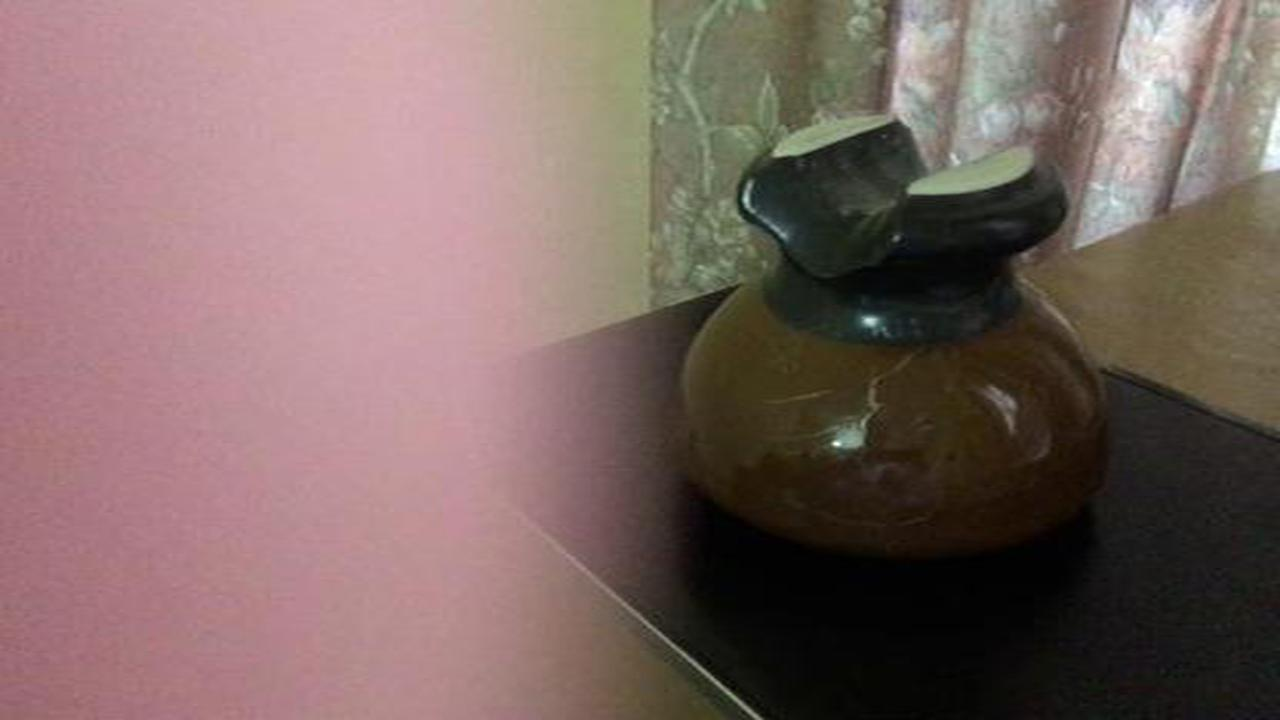insulator_pin: (656, 97, 1136, 565)
